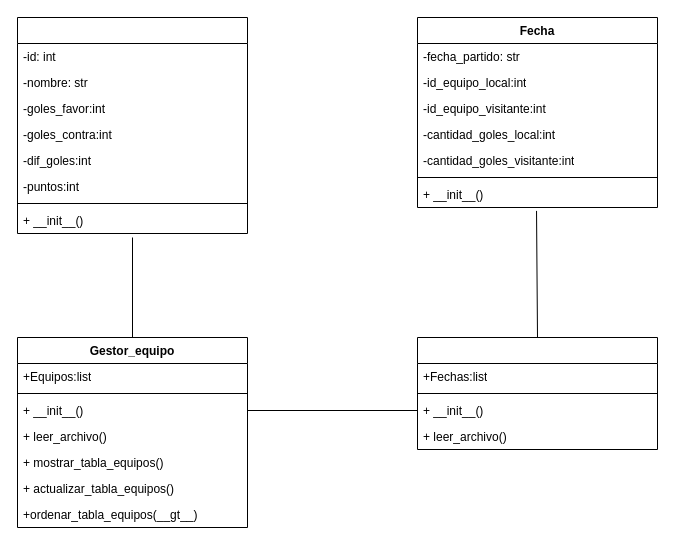
Some shapes in this 675 by 548 pixel diagram are drawn without their labels. Here are the shapes that lost their labels. From the top down, the box of each, then its label:
(16, 16, 248, 234): Equipo
(416, 336, 658, 450): Gestor_fecha
